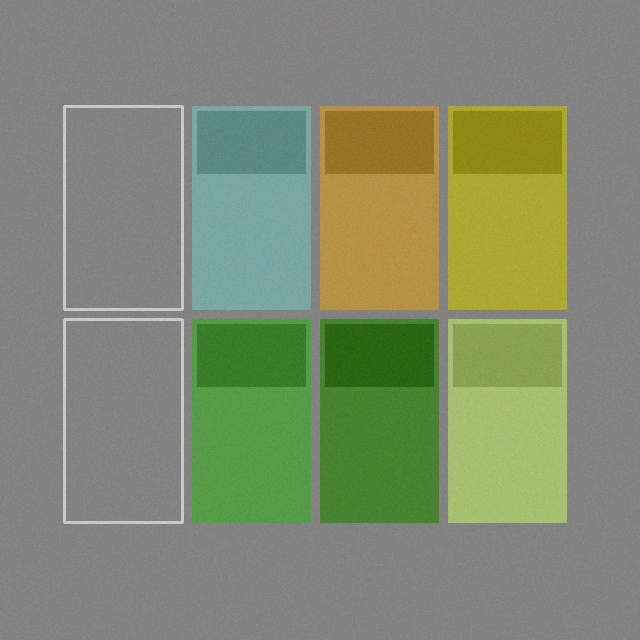space-empty: (64, 106, 182, 309), (64, 319, 182, 522)
space-occupied: (192, 106, 310, 309), (320, 106, 438, 309), (448, 106, 566, 309), (192, 319, 310, 522), (320, 319, 438, 522), (448, 319, 566, 522)
